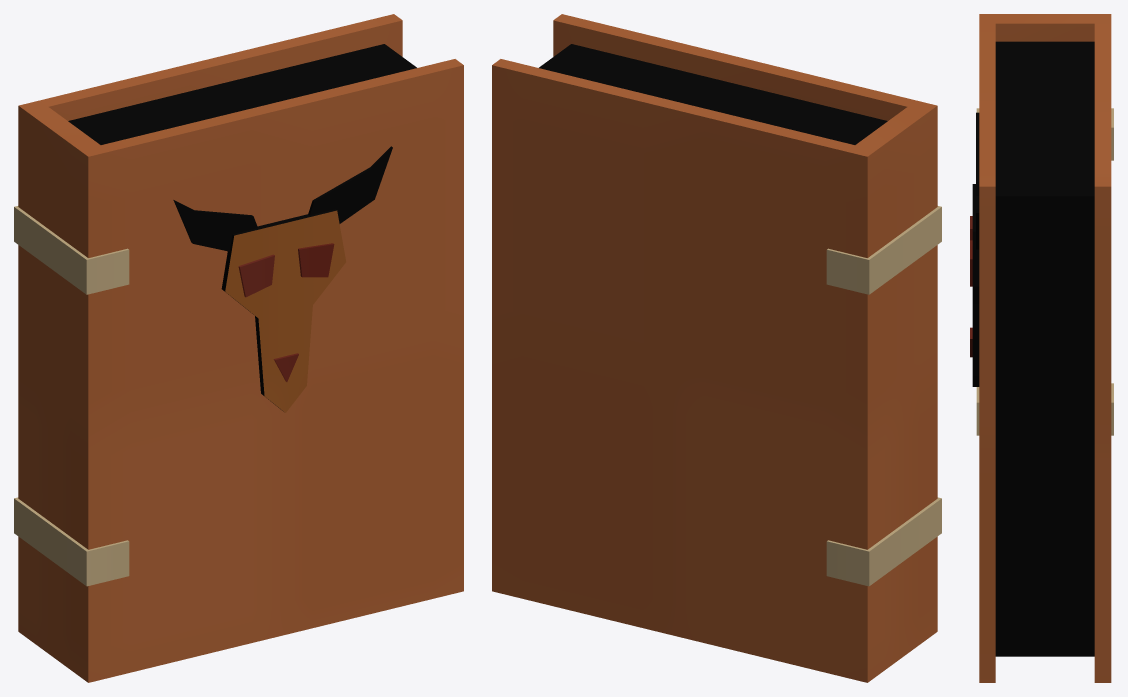
The model's file is farm_ledger.obj.
3 renders of one model, left to right at view 1: azimuth 30°, elevation 25°; view 2: azimuth 150°, elevation 25°; view 3: azimuth 270°, elevation 25°, orthographic. The views are drawn at different scales.
Parts seen in each view (by area): view 1: bound_pages_and_board_covers, frontal_bull_skull_and_paired_horns, two_gold_spine_bands; view 2: bound_pages_and_board_covers, two_gold_spine_bands; view 3: bound_pages_and_board_covers, frontal_bull_skull_and_paired_horns, two_gold_spine_bands.
Part boxes in pixels (<box>): bound_pages_and_board_covers: <box>18,14,463,682</box>; frontal_bull_skull_and_paired_horns: <box>173,146,392,412</box>; two_gold_spine_bands: <box>14,206,129,586</box>; bound_pages_and_board_covers: <box>492,14,937,682</box>; two_gold_spine_bands: <box>826,206,941,586</box>; bound_pages_and_board_covers: <box>979,14,1111,682</box>; frontal_bull_skull_and_paired_horns: <box>970,112,979,386</box>; two_gold_spine_bands: <box>976,108,1113,435</box>.
Size of the model in its own units: 0.3906 by 0.5188 by 0.1363.
